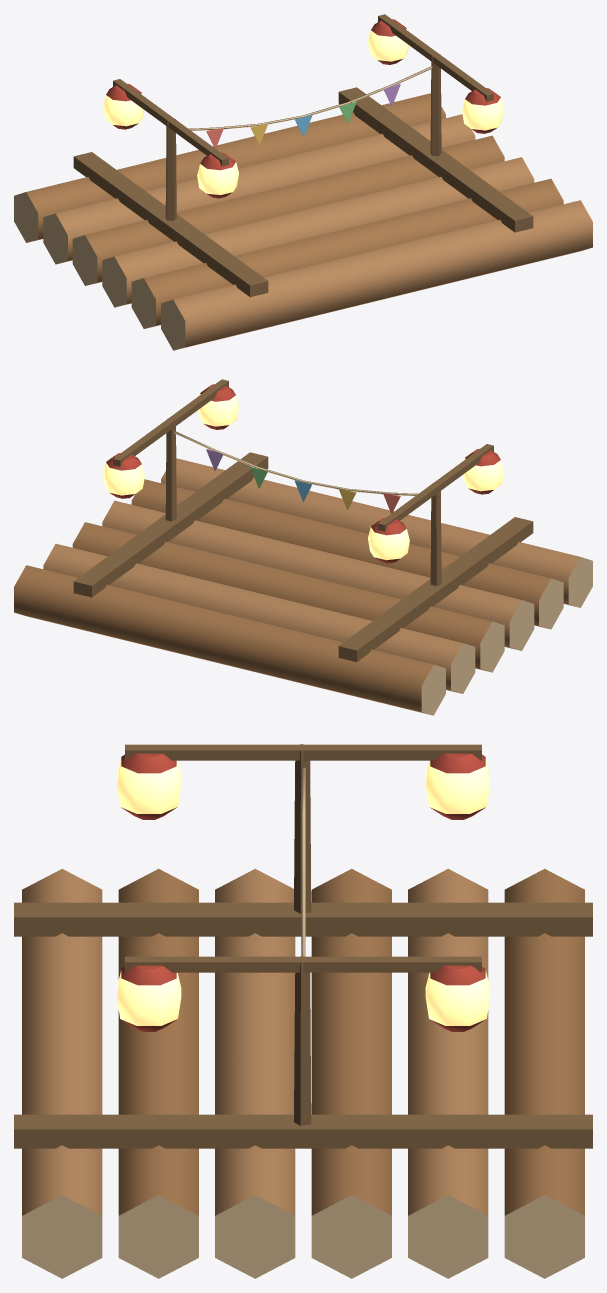
File: festival-raft.glb
The picture shows the model from 3 angles, top to bottom: view 1: azimuth 30°, elevation 25°; view 2: azimuth 150°, elevation 25°; view 3: azimuth 270°, elevation 25°; orthographic projection. The views are drawn at different scales.
Visible parts, largest first — view 1: festival-raft; view 2: festival-raft; view 3: festival-raft.
Part boxes in pixels (<box>): festival-raft: <box>14,14,592,350</box>; festival-raft: <box>14,379,592,715</box>; festival-raft: <box>14,744,592,1278</box>.
Bounding box in the file's own units: 8 × 3 × 6.
